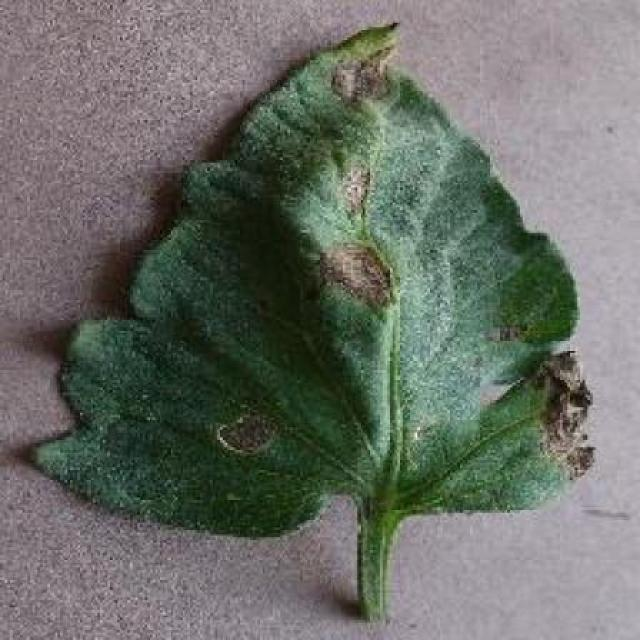Early Blight: (34, 22, 594, 544)
